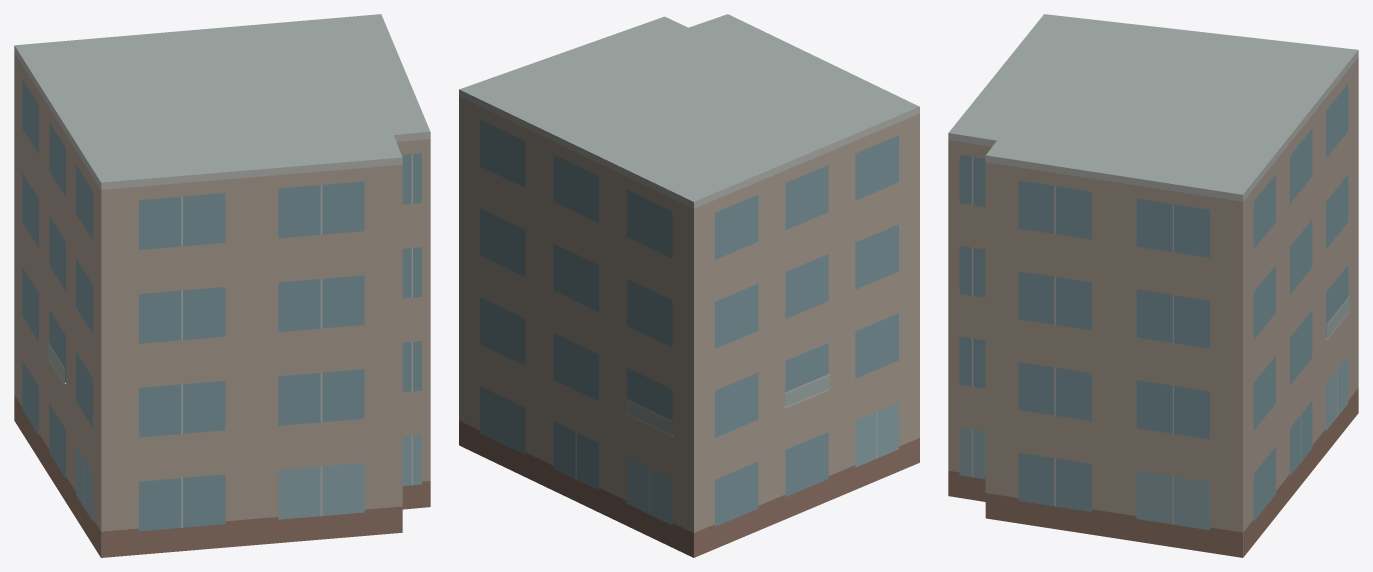
File: survey-upis-33041139.glb
3 views of the same model, side by side, from view 1: azimuth 30°, elevation 25°; view 2: azimuth 150°, elevation 25°; view 3: azimuth 270°, elevation 25° (orthographic). The views are drawn at different scales.
Visible parts, largest first — view 1: survey-upis-33041139.tmp; view 2: survey-upis-33041139.tmp; view 3: survey-upis-33041139.tmp.
Boxes of the visible parts, left/top/right/bottom form: survey-upis-33041139.tmp: left=14, top=14, right=430, bottom=557; survey-upis-33041139.tmp: left=459, top=14, right=919, bottom=557; survey-upis-33041139.tmp: left=948, top=14, right=1358, bottom=557.
Bounding box in the file's own units: 13.47 × 12.6 × 12.92.
